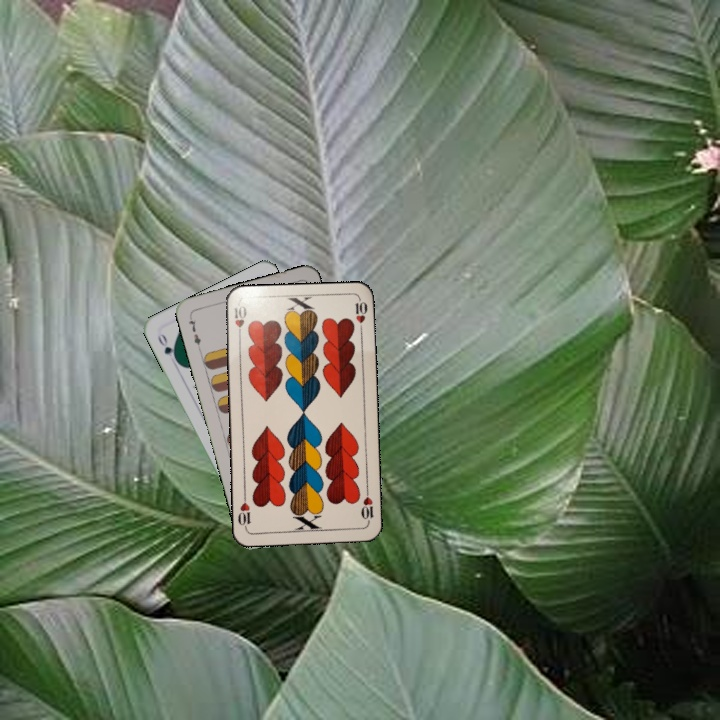E7: (185, 312, 204, 352)
GO: (153, 328, 180, 365)
H10: (357, 485, 376, 526), (230, 301, 249, 341)
